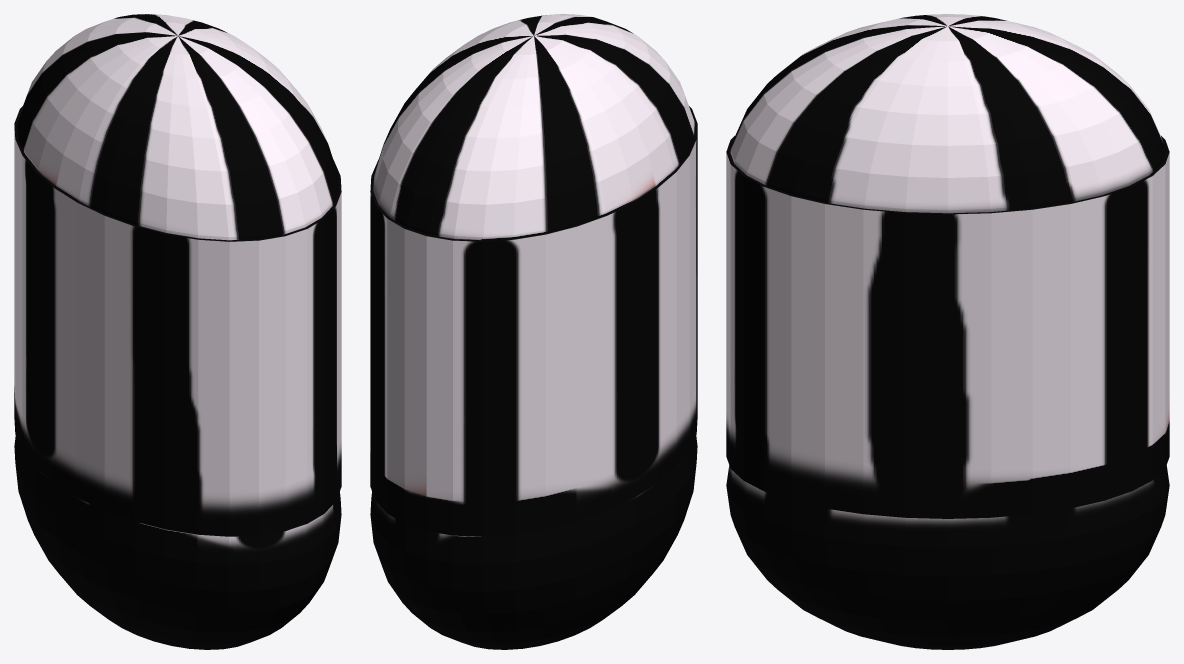
The model's file is Torso_Arbitro.obj.
The picture shows the model from 3 angles, left to right: view 1: azimuth 30°, elevation 25°; view 2: azimuth 150°, elevation 25°; view 3: azimuth 270°, elevation 25°; orthographic projection. The views are drawn at different scales.
Visible parts, largest first — view 1: Torso_Arbitro; view 2: Torso_Arbitro; view 3: Torso_Arbitro.
Boxes of the visible parts, x1,y1,x2,y2 form: Torso_Arbitro: (14, 14, 341, 649); Torso_Arbitro: (370, 14, 697, 649); Torso_Arbitro: (726, 14, 1169, 649).
Bounding box in the file's own units: 1.88 × 4.3 × 2.82.
Materials: 1 (1 with a texture image).
